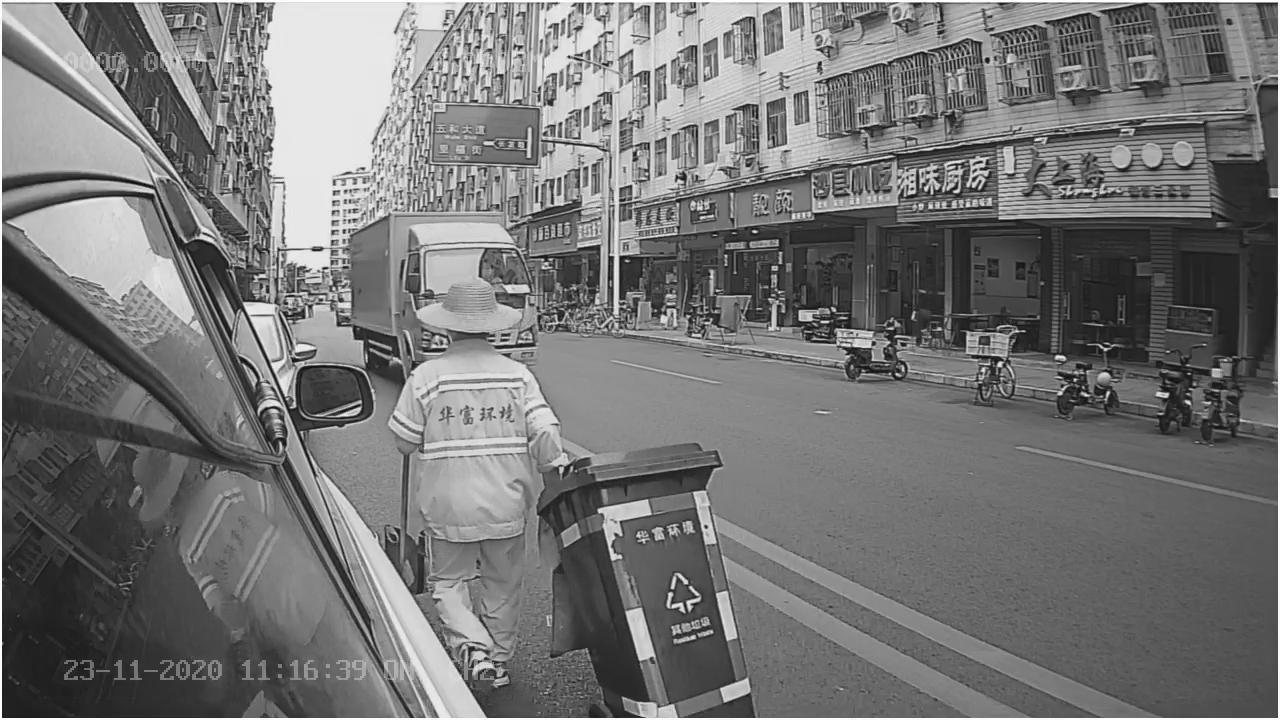person: (407, 275, 568, 468)
